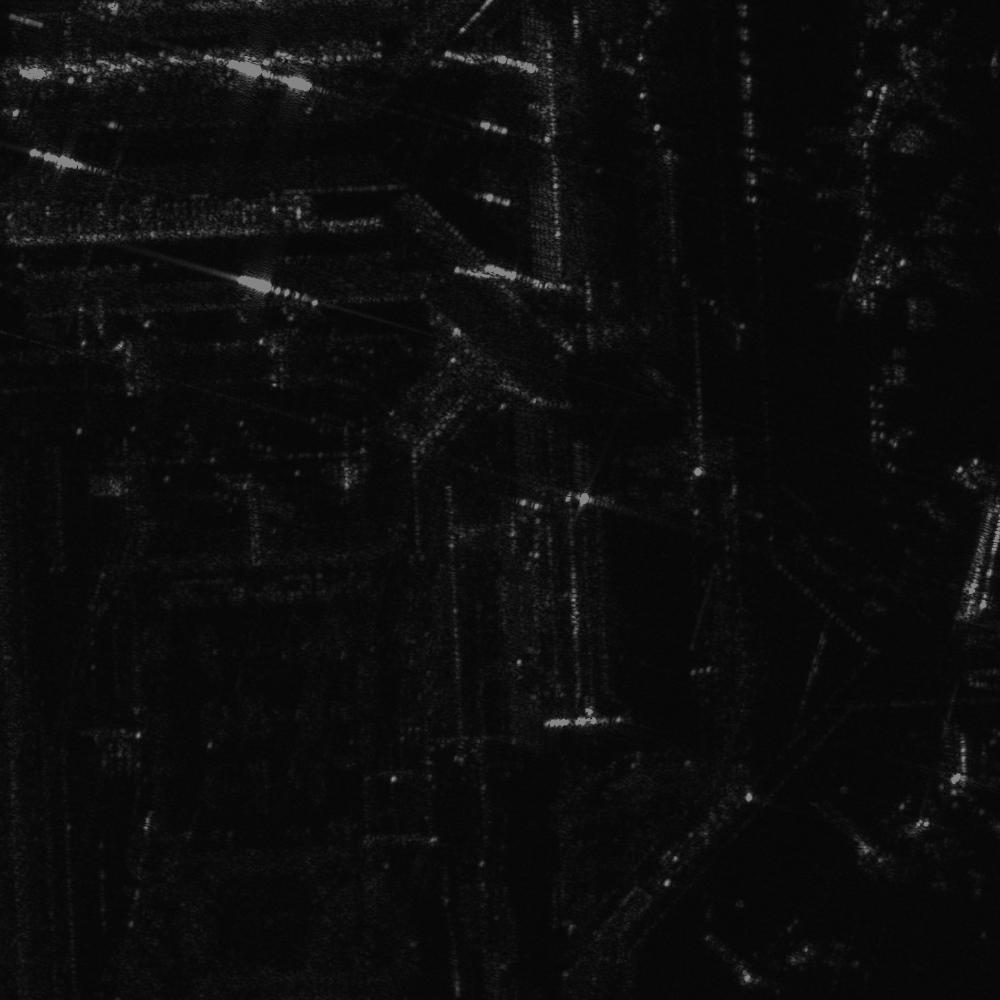A320/321: (847, 7, 999, 134), (855, 171, 999, 295)
